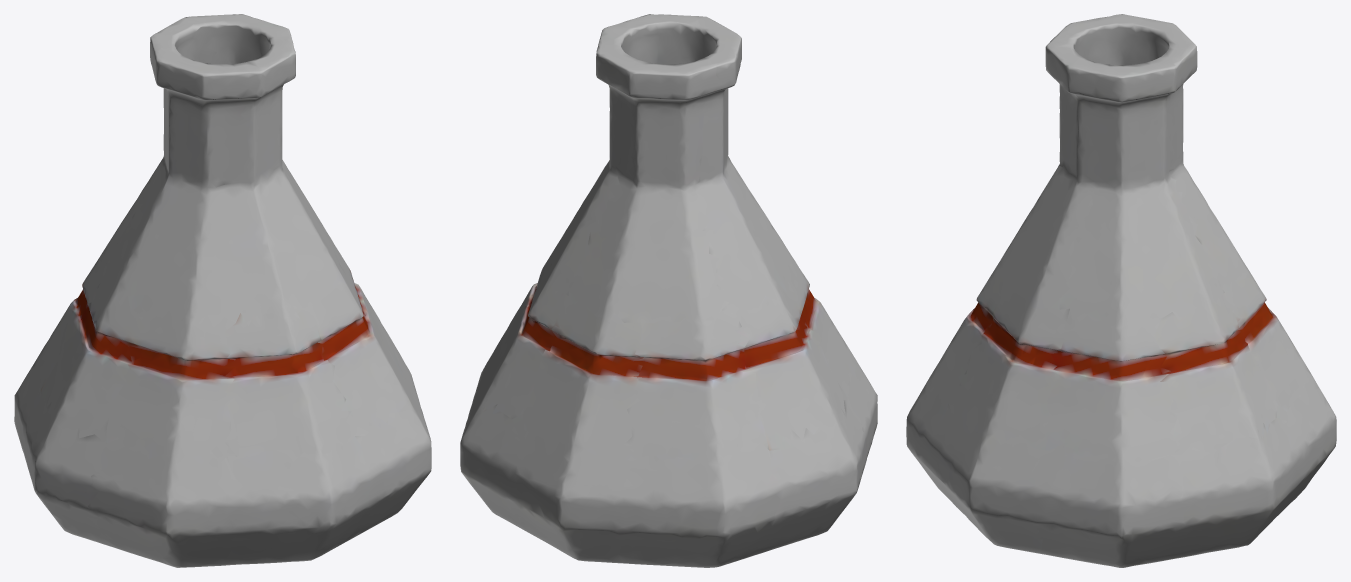
The picture shows the model from 3 angles, left to right: view 1: azimuth 30°, elevation 25°; view 2: azimuth 150°, elevation 25°; view 3: azimuth 270°, elevation 25°; orthographic projection.
Parts seen in each view (by area): view 1: tripo_node_2629c0b5-a90c-49fc-9496-539cecbd7cb9; view 2: tripo_node_2629c0b5-a90c-49fc-9496-539cecbd7cb9; view 3: tripo_node_2629c0b5-a90c-49fc-9496-539cecbd7cb9.
Part boxes in pixels (box(x1,y1,x2,y2)): tripo_node_2629c0b5-a90c-49fc-9496-539cecbd7cb9: box(14, 14, 431, 567); tripo_node_2629c0b5-a90c-49fc-9496-539cecbd7cb9: box(460, 14, 877, 567); tripo_node_2629c0b5-a90c-49fc-9496-539cecbd7cb9: box(906, 14, 1336, 567).
Size of the model in its own units: 0.4341 by 0.5 by 0.4339.
Materials: 1 (1 with a texture image).
